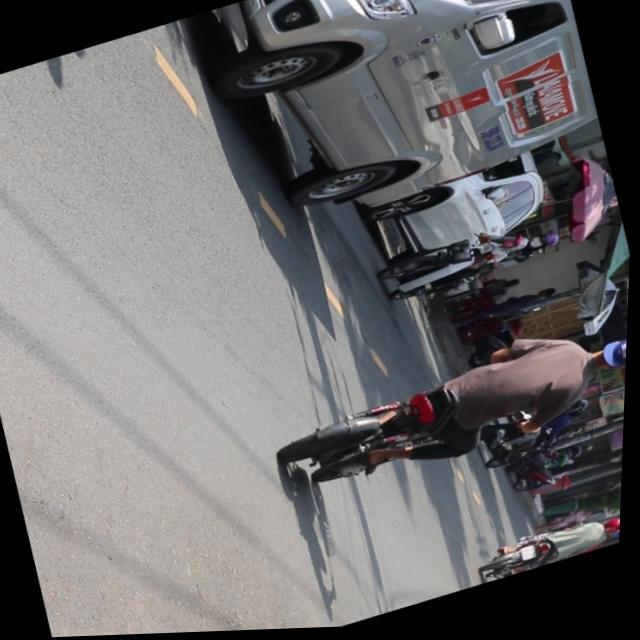helmet: (530, 233, 562, 256)
licenseplate: (266, 306, 631, 512), (379, 213, 568, 314)
motorcyclist: (588, 334, 630, 381), (502, 236, 532, 257)
